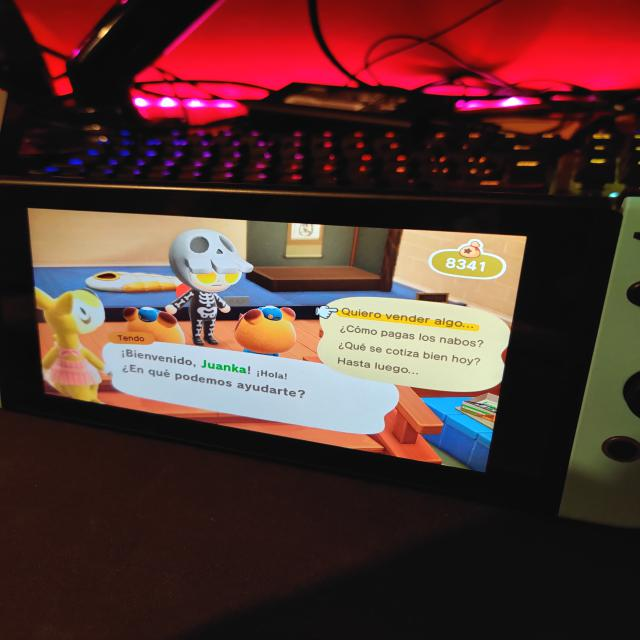text_bubble: (101, 329, 403, 438), (315, 295, 513, 394)
